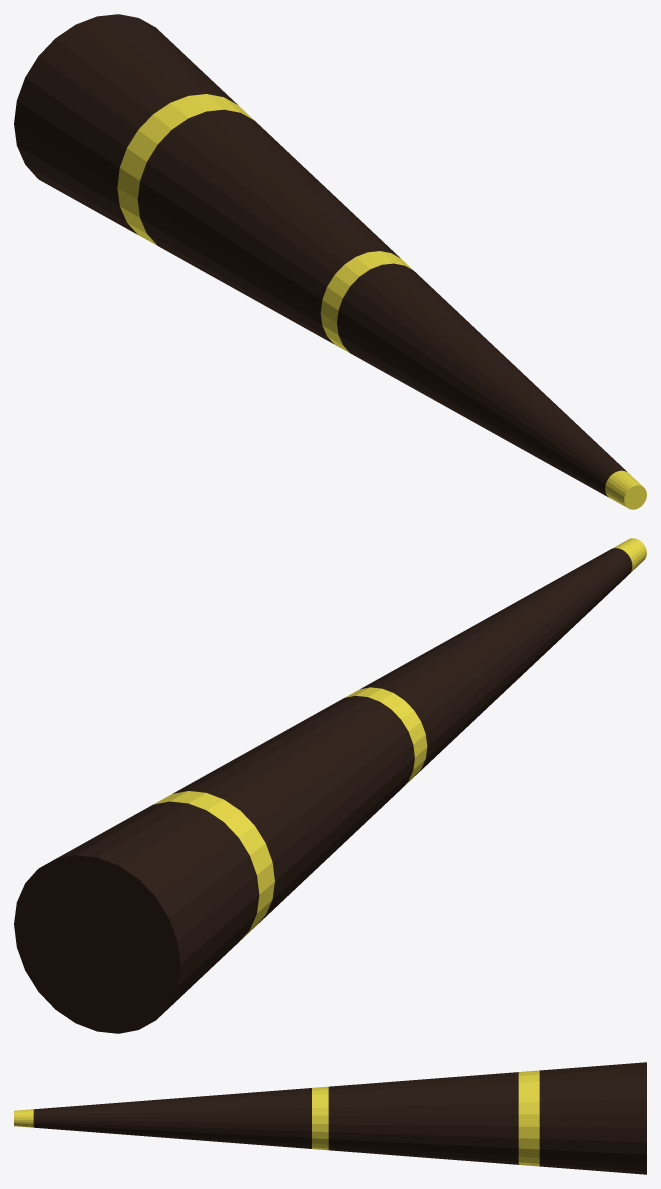
File: waspProjectile.fbx
3 views of the same model, one above another, from view 1: azimuth 30°, elevation 25°; view 2: azimuth 150°, elevation 25°; view 3: azimuth 270°, elevation 25° (orthographic). The views are drawn at different scales.
Parts seen in each view (by area): view 1: Wasp Stinger Projectile; view 2: Wasp Stinger Projectile; view 3: Wasp Stinger Projectile.
Part boxes in pixels (<box>): Wasp Stinger Projectile: <box>14,14,646,509</box>; Wasp Stinger Projectile: <box>14,538,646,1033</box>; Wasp Stinger Projectile: <box>14,1062,646,1174</box>.
Size of the model in its own units: 46.45 by 260 by 46.45.
